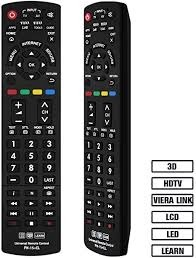remote control: (0, 0, 63, 258), (76, 1, 139, 258)
